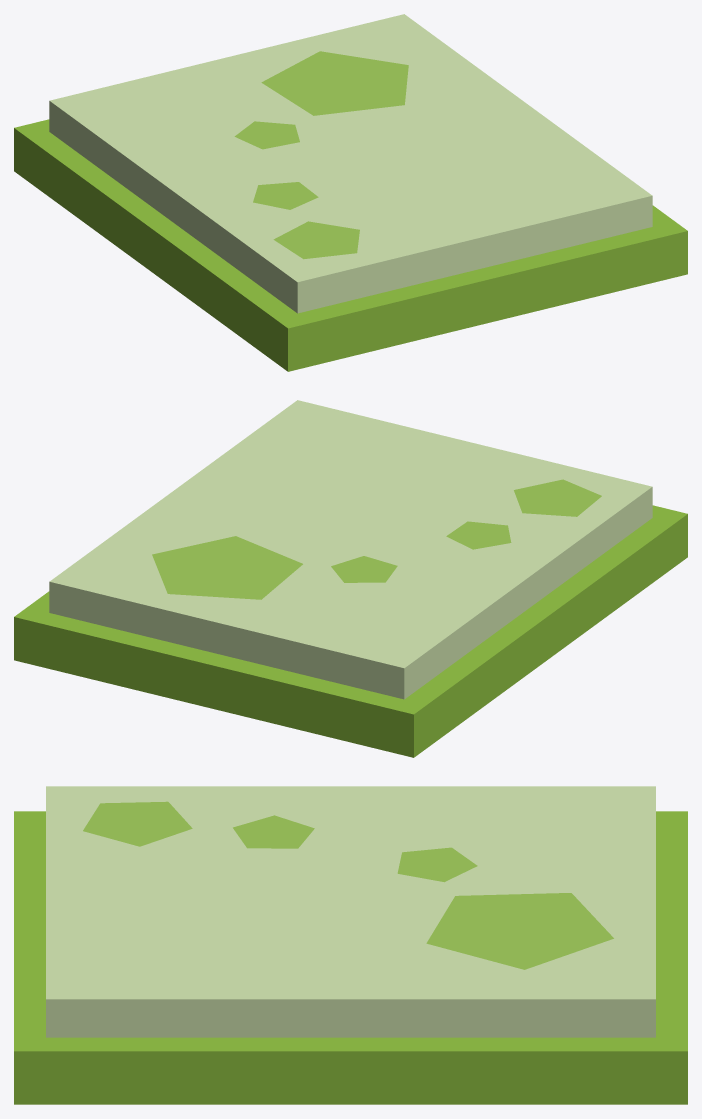
File: Hunter_Platform.fbx
The picture shows the model from 3 angles, top to bottom: view 1: azimuth 30°, elevation 25°; view 2: azimuth 150°, elevation 25°; view 3: azimuth 270°, elevation 25°; orthographic projection. The views are drawn at different scales.
Parts seen in each view (by area): view 1: Hunter_Platform_Geo; view 2: Hunter_Platform_Geo; view 3: Hunter_Platform_Geo.
Part boxes in pixels (x1=…): Hunter_Platform_Geo: x1=14, y1=14, x2=687, y2=371; Hunter_Platform_Geo: x1=14, y1=400, x2=687, y2=757; Hunter_Platform_Geo: x1=14, y1=786, x2=687, y2=1104.
Size of the model in its own units: 250 by 44.57 by 297.
